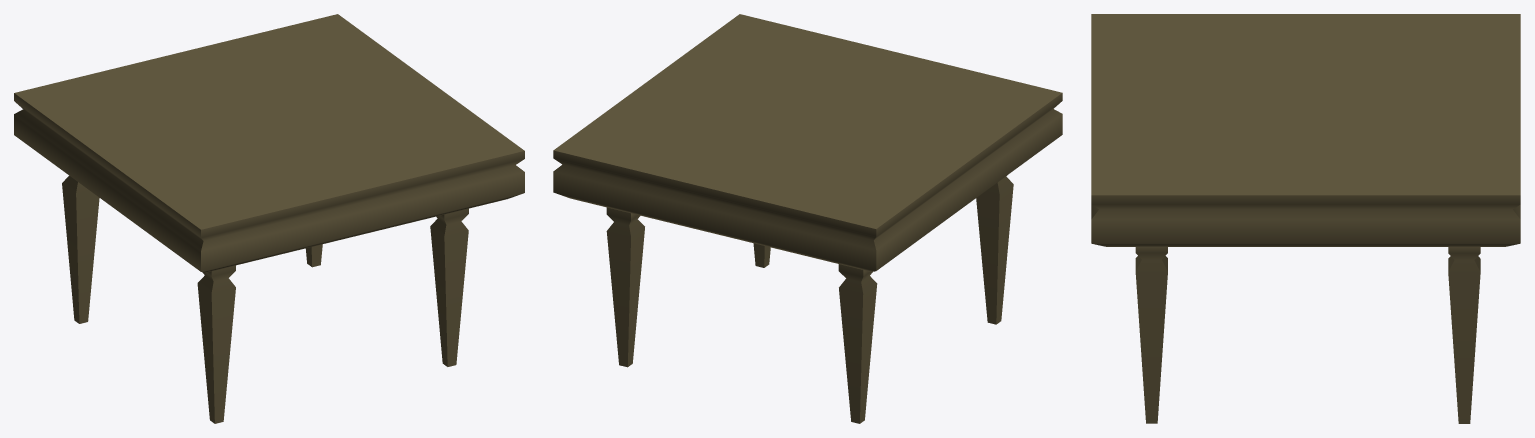
Rendered from TabletoUnity.fbx.
3 views of the same model, side by side, from view 1: azimuth 30°, elevation 25°; view 2: azimuth 150°, elevation 25°; view 3: azimuth 270°, elevation 25° (orthographic). The views are drawn at different scales.
Visible parts, largest first — view 1: pCube63; view 2: pCube63; view 3: pCube63.
Part boxes in pixels (box(x1,y1,x2,y2)): pCube63: box(14, 14, 524, 423); pCube63: box(553, 14, 1062, 423); pCube63: box(1091, 14, 1520, 423).
Bounding box in the file's own units: 2.7 × 1.76 × 2.7.
